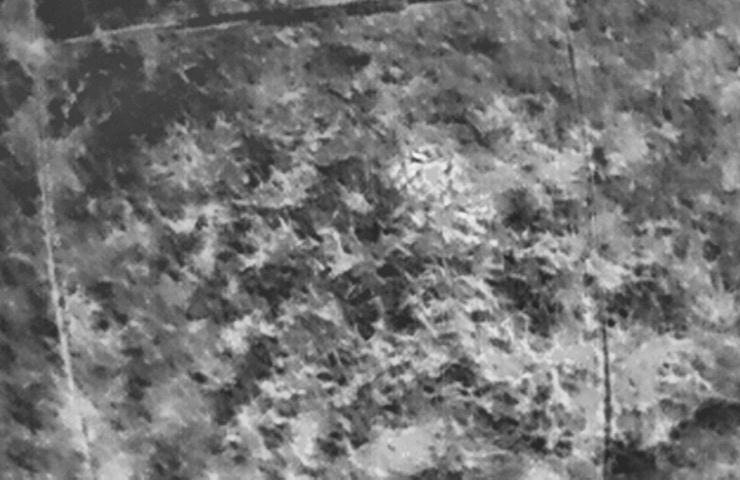landmines: (385, 135, 471, 210)
